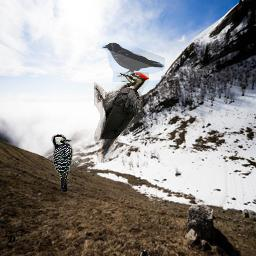Crow: (102, 41, 165, 82)
Woodpecker: (94, 72, 149, 163), (51, 133, 82, 193)
